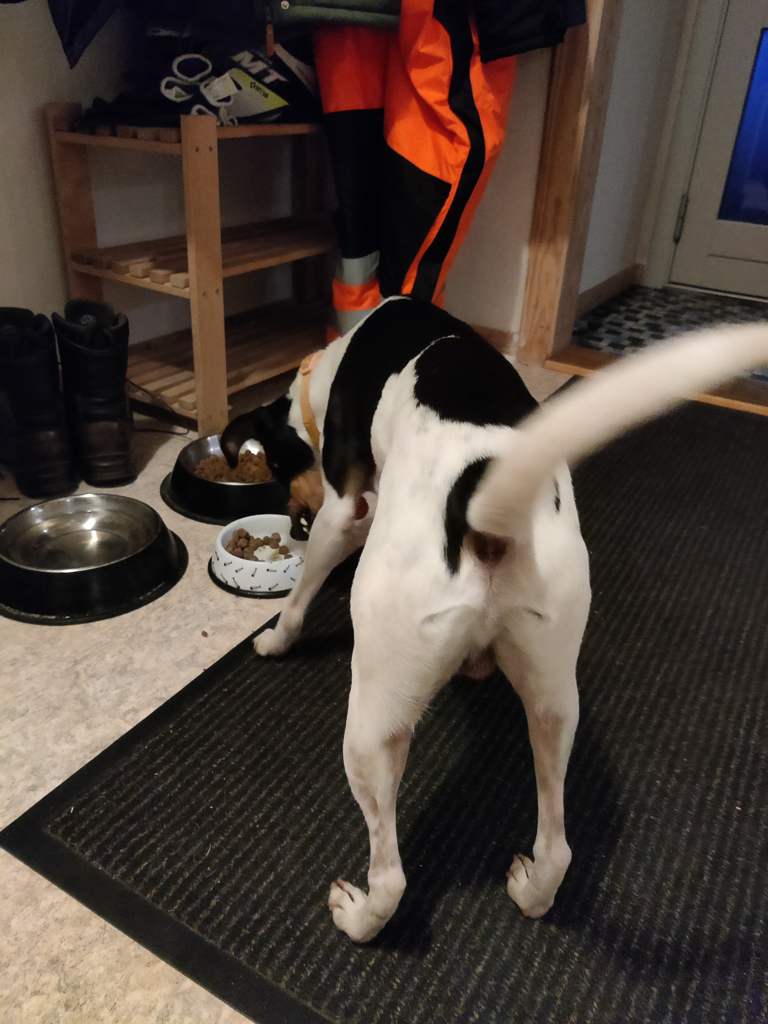Dog: (177, 243, 768, 975)
